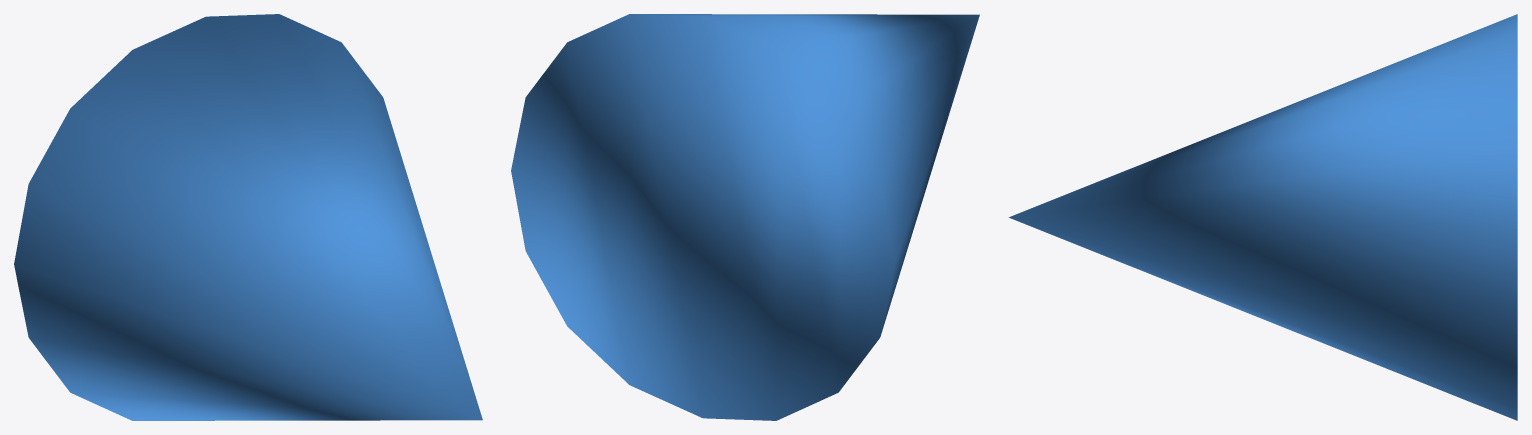
File: expected.gltf
The picture shows the model from 3 angles, left to right: view 1: azimuth 30°, elevation 25°; view 2: azimuth 150°, elevation 25°; view 3: azimuth 270°, elevation 25°; orthographic projection. The views are drawn at different scales.
Bounding box in the file's own units: 24 × 24 × 30.
